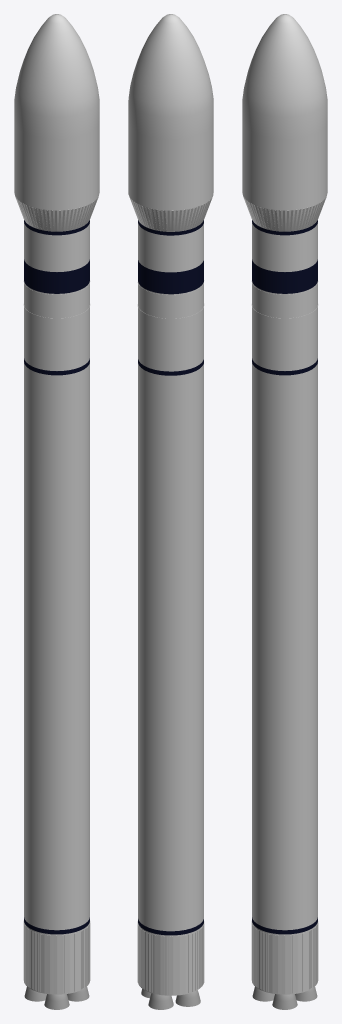
3 views of the same model, side by side, from view 1: azimuth 90°, elevation 25°; view 2: azimuth 150°, elevation 25°; view 3: azimuth 270°, elevation 25° (orthographic).
Visible parts, largest first — view 1: 柱体.005; view 2: 柱体.005; view 3: 柱体.005.
Boxes of the visible parts, x1,y1,x2,y2 form: 柱体.005: [14, 14, 99, 1009]; 柱体.005: [128, 14, 213, 1009]; 柱体.005: [242, 14, 327, 1009].
Bounding box in the file's own units: 4.91 × 62.2 × 4.91.
